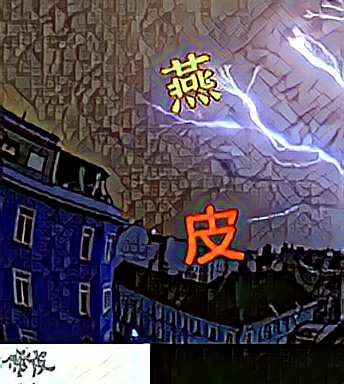C6A4: (183, 203, 245, 267)
D1E0: (160, 49, 222, 113)
